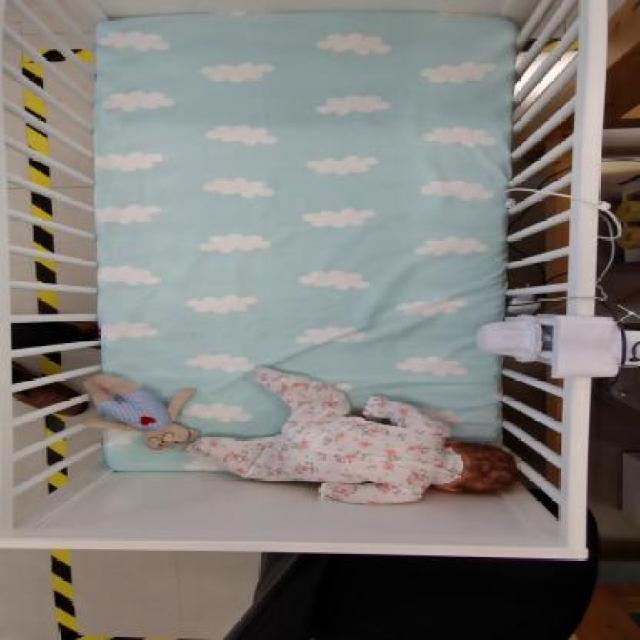baby: (187, 363, 524, 508)
